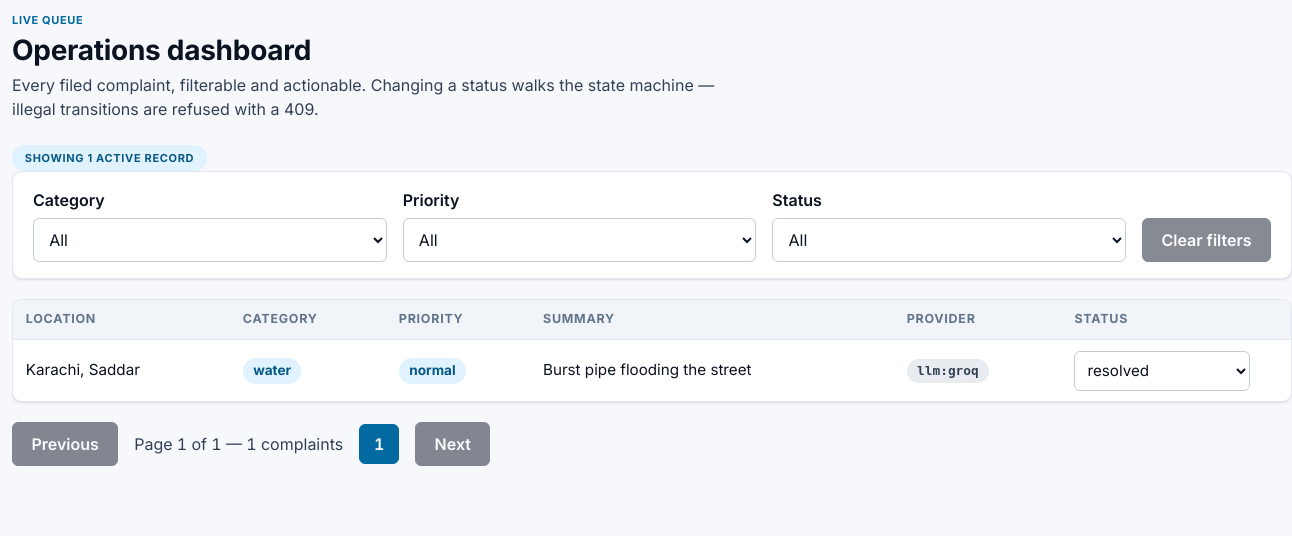
it: DashboardPage › renders the server's 409 conflict detail verbatim on a rejected status change
Select "open" in the dropdown named "status for". click: (1162, 371)
box: [1074,351,1250,391]
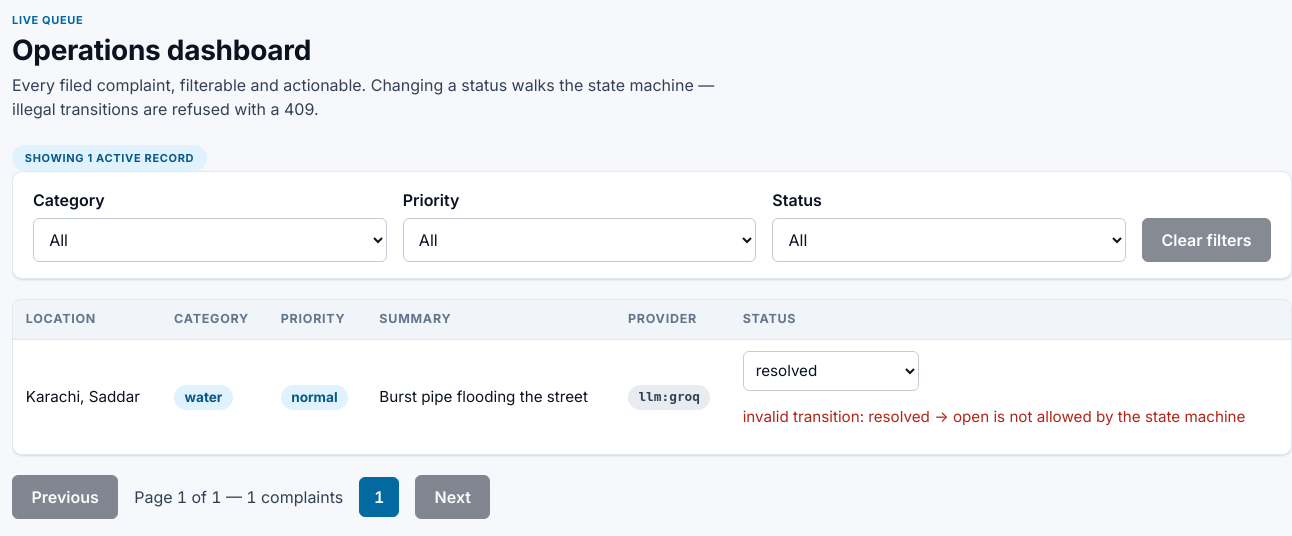
Expected: the message reads "invalid transition: resolved -> open is not allowed by the state machine", [743,407,1245,426]
